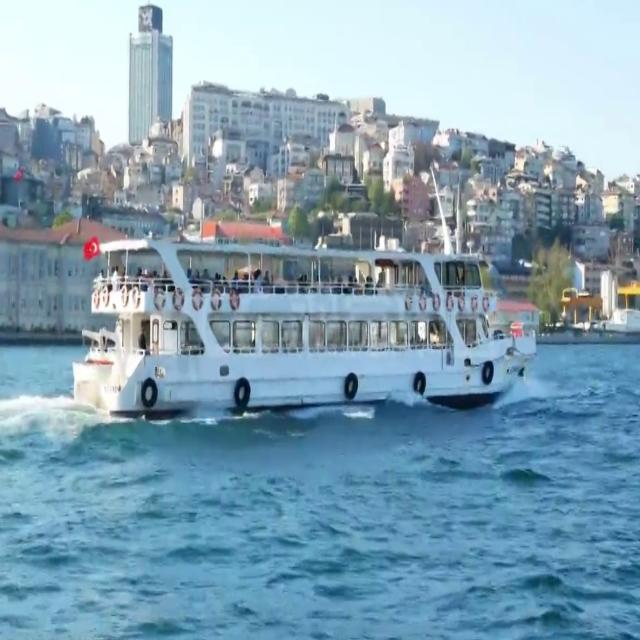passenger ship: (69, 224, 533, 411)
